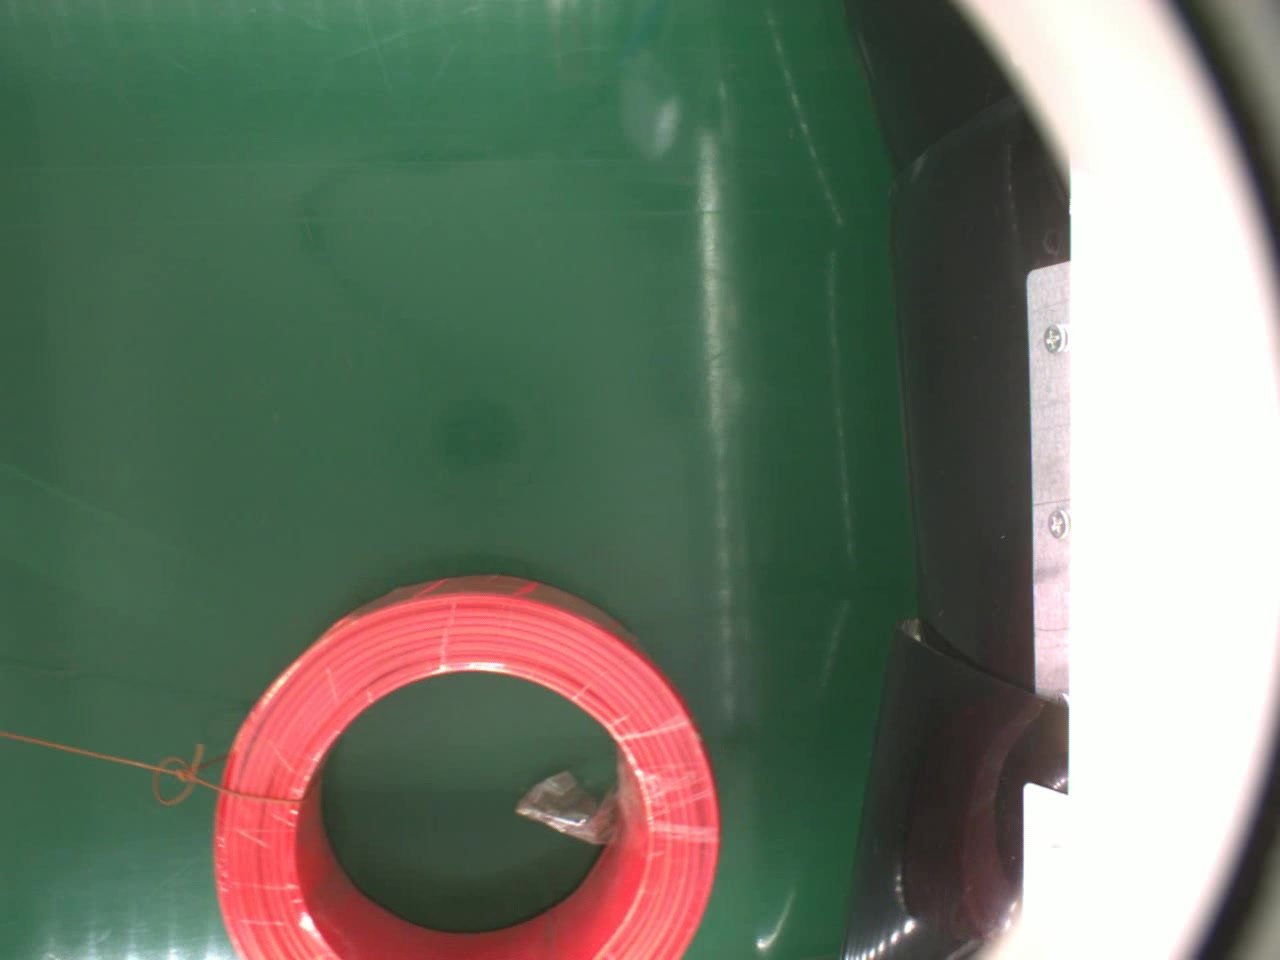red: (207, 570, 726, 960)
